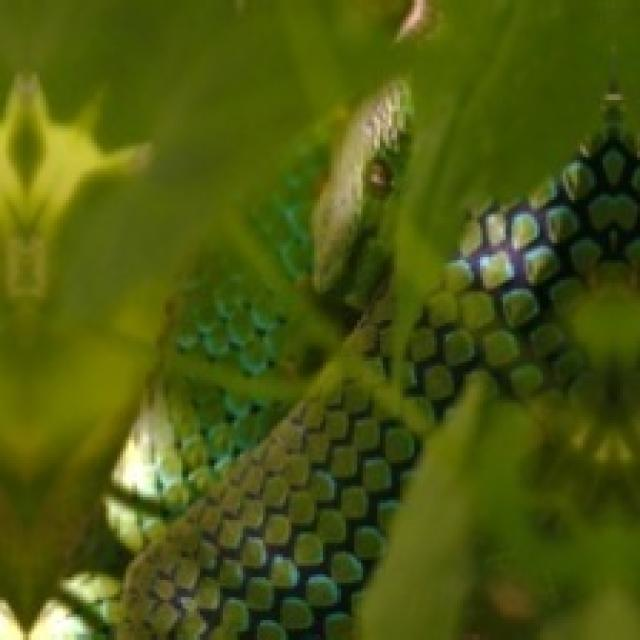philippine pitviper: (88, 86, 640, 640), (178, 264, 272, 380)
